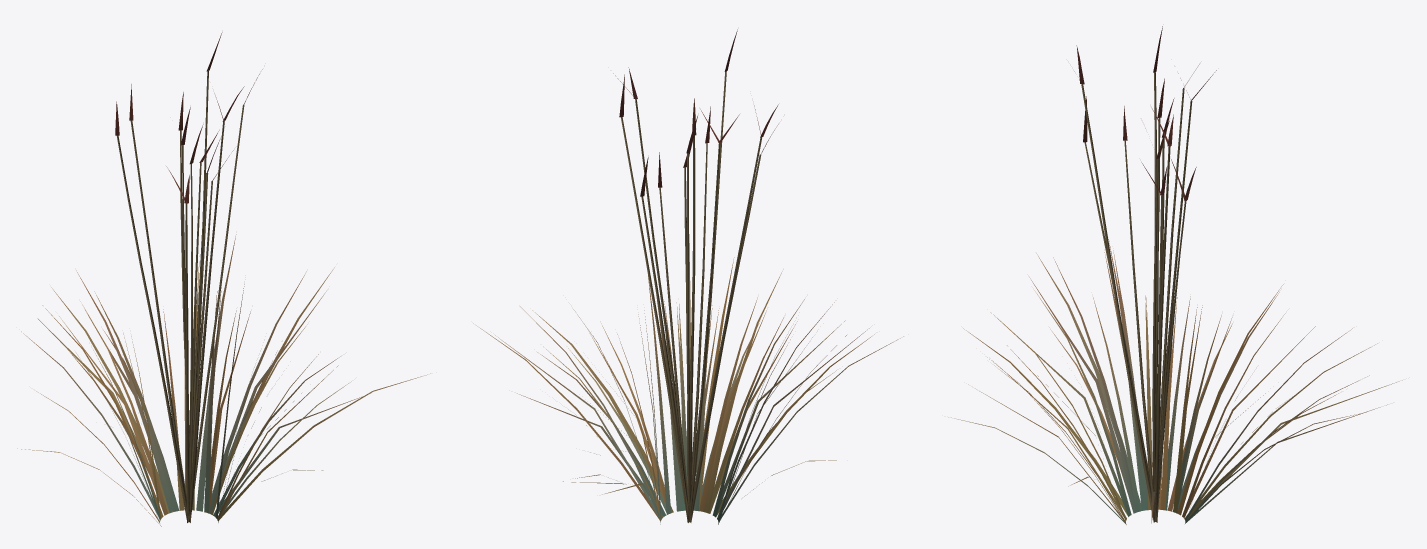
Rendered from bluestem.glb.
3 renders of one model, left to right at view 1: azimuth 30°, elevation 25°; view 2: azimuth 150°, elevation 25°; view 3: azimuth 270°, elevation 25°, orthographic. The views are drawn at different scales.
Parts seen in each view (by area): view 1: bluestem, bluestem-lo; view 2: bluestem, bluestem-lo; view 3: bluestem, bluestem-lo.
Part boxes in pixels (x1,y1,x2,y2): bluestem: [17, 69, 430, 526]; bluestem-lo: [37, 32, 362, 522]; bluestem: [473, 29, 903, 524]; bluestem-lo: [495, 67, 869, 522]; bluestem: [948, 26, 1377, 524]; bluestem-lo: [968, 64, 1402, 523].
Bounding box in the file's own units: 1.5 × 1.84 × 1.61.
